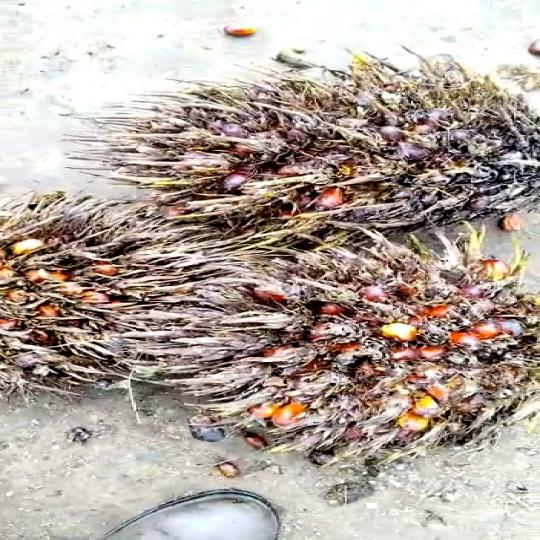terlalu masak: (108, 252, 540, 455), (99, 66, 518, 238)
